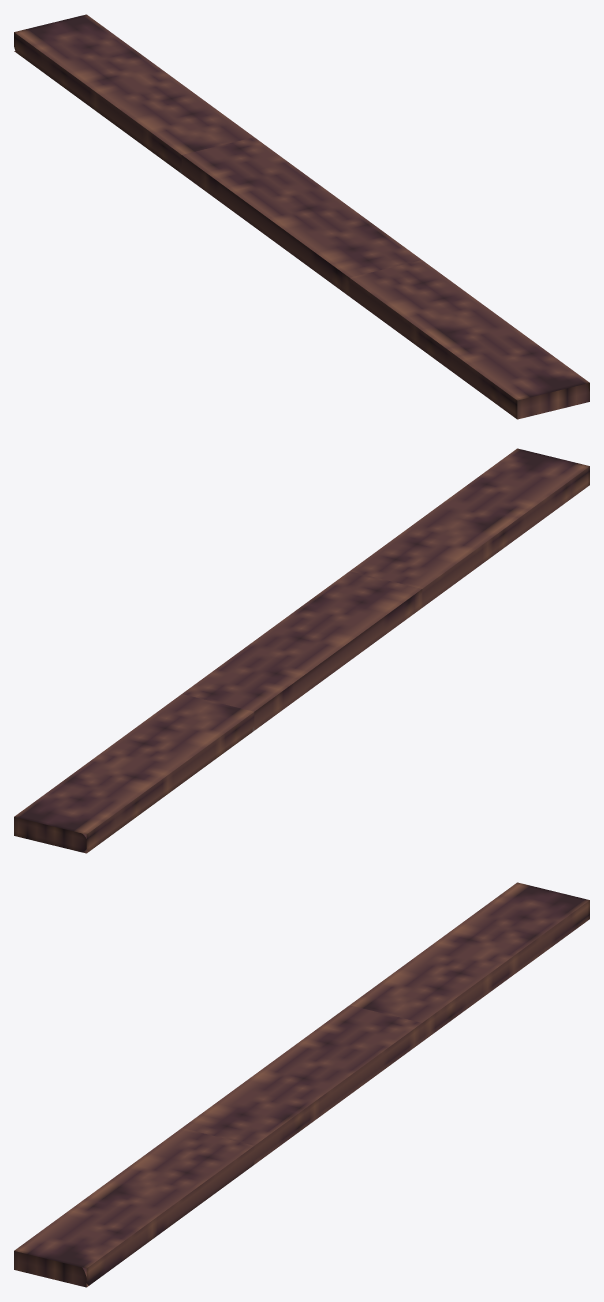
Rendered from Board_1.fbx.
3 views of the same model, one above another, from view 1: azimuth 30°, elevation 25°; view 2: azimuth 150°, elevation 25°; view 3: azimuth 330°, elevation 25° (orthographic).
Parts seen in each view (by area): view 1: Board_1; view 2: Board_1; view 3: Board_1.
Boxes of the visible parts, x1,y1,x2,y2 form: Board_1: (14, 14, 589, 419); Board_1: (14, 448, 589, 853); Board_1: (14, 882, 589, 1287).
Size of the model in its own units: 50 by 12.5 by 600.
Materials: 1 (1 with a texture image).
